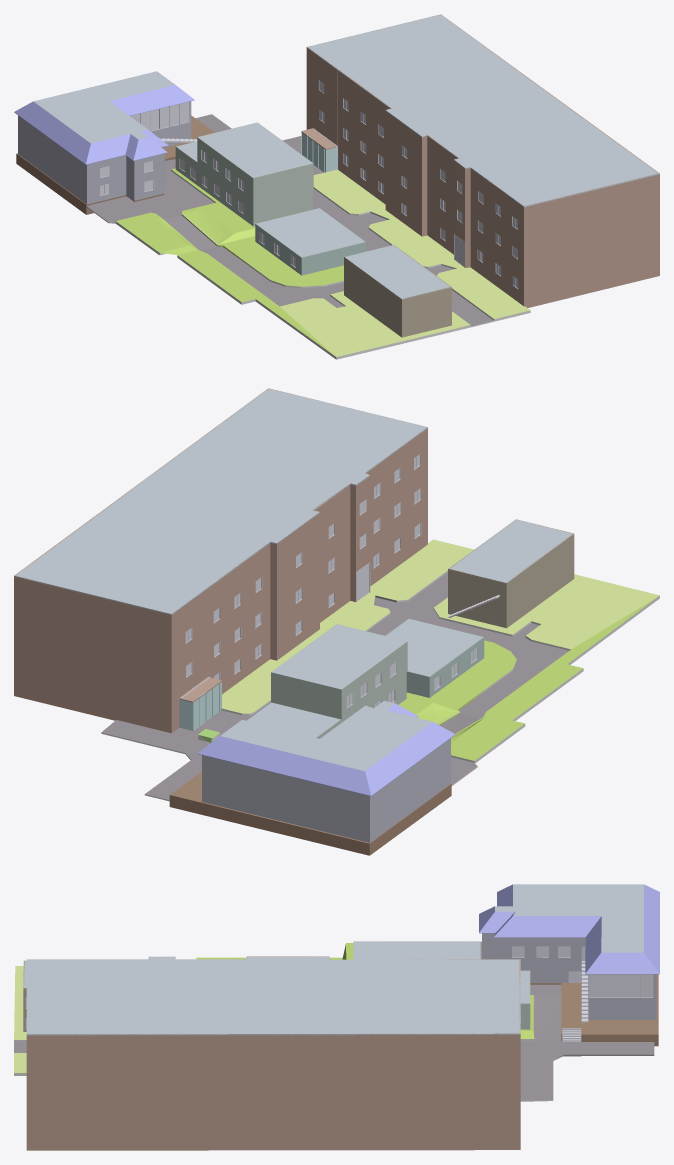
Rendered from yamadai.dae.
3 renders of one model, top to bottom at view 1: azimuth 30°, elevation 25°; view 2: azimuth 150°, elevation 25°; view 3: azimuth 270°, elevation 25°, orthographic. The views are drawn at different scales.
Visible parts, largest first — view 1: node93, node91, node8, node252, node297, node298, node0, node158, node1, node247, node230, node198 (+11 smaller); view 2: node93, node91, node252, node8, node297, node298, node0, node158, node1, node247, node251, node230 (+12 smaller); view 3: node93, node91, node297, node298, node8, node252, node251, node247, node0, node274.
Part boxes in pixels (bbox=[...]): node93: bbox=[306, 14, 659, 307]; node91: bbox=[306, 14, 659, 207]; node8: bbox=[86, 114, 390, 307]; node252: bbox=[18, 101, 191, 204]; node297: bbox=[14, 85, 194, 164]; node298: bbox=[34, 71, 175, 143]; node0: bbox=[280, 291, 470, 356]; node158: bbox=[344, 245, 451, 337]; node1: bbox=[116, 212, 335, 356]; node247: bbox=[198, 122, 313, 178]; node230: bbox=[197, 122, 313, 203]; node198: bbox=[257, 208, 365, 258]; node93: bbox=[14, 388, 427, 733]; node91: bbox=[14, 388, 427, 614]; node252: bbox=[202, 738, 450, 842]; node8: bbox=[101, 614, 568, 799]; node297: bbox=[197, 703, 455, 796]; node298: bbox=[220, 700, 432, 771]; node0: bbox=[434, 574, 659, 649]; node158: bbox=[448, 519, 574, 628]; node1: bbox=[451, 596, 658, 760]; node247: bbox=[271, 625, 407, 689]; node251: bbox=[169, 771, 451, 855]; node230: bbox=[271, 624, 407, 719]; node93: bbox=[26, 956, 520, 1150]; node91: bbox=[26, 956, 520, 1035]; node297: bbox=[479, 884, 659, 974]; node298: bbox=[495, 884, 643, 952]; node8: bbox=[480, 941, 654, 1100]; node252: bbox=[482, 933, 656, 1019]; node251: bbox=[530, 947, 658, 1046]; node247: bbox=[353, 941, 480, 959]; node0: bbox=[14, 966, 26, 1039]; node274: bbox=[581, 961, 588, 1022].
Bounding box in the file's own units: 74.87 × 101 × 21.39.
